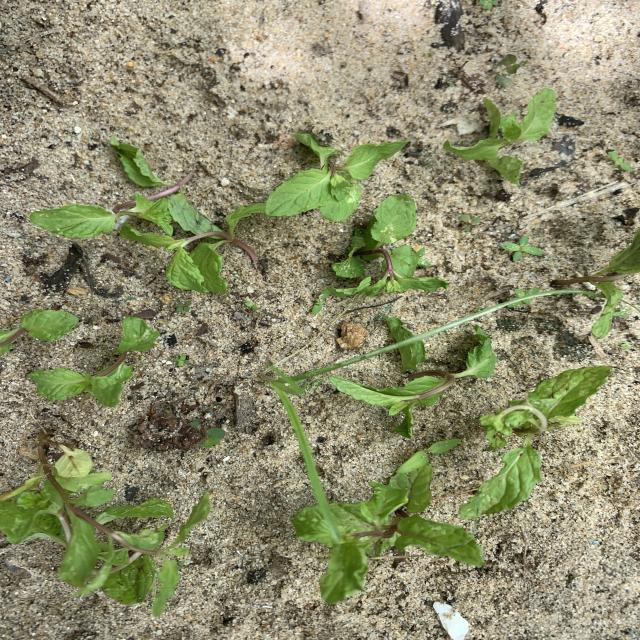crop: (0, 430, 211, 615), (30, 137, 264, 295), (294, 450, 483, 602), (460, 366, 611, 517), (332, 336, 494, 426), (264, 133, 407, 219), (322, 196, 446, 295), (29, 317, 159, 407), (447, 88, 555, 185), (552, 229, 640, 338), (1, 310, 78, 354)
weed: (264, 301, 519, 535), (396, 439, 461, 475), (501, 234, 542, 261), (495, 54, 521, 87), (201, 427, 227, 449), (608, 152, 634, 171), (458, 215, 483, 231), (614, 304, 632, 319), (476, 0, 501, 10), (174, 354, 189, 367), (176, 301, 191, 313), (244, 300, 260, 311)
